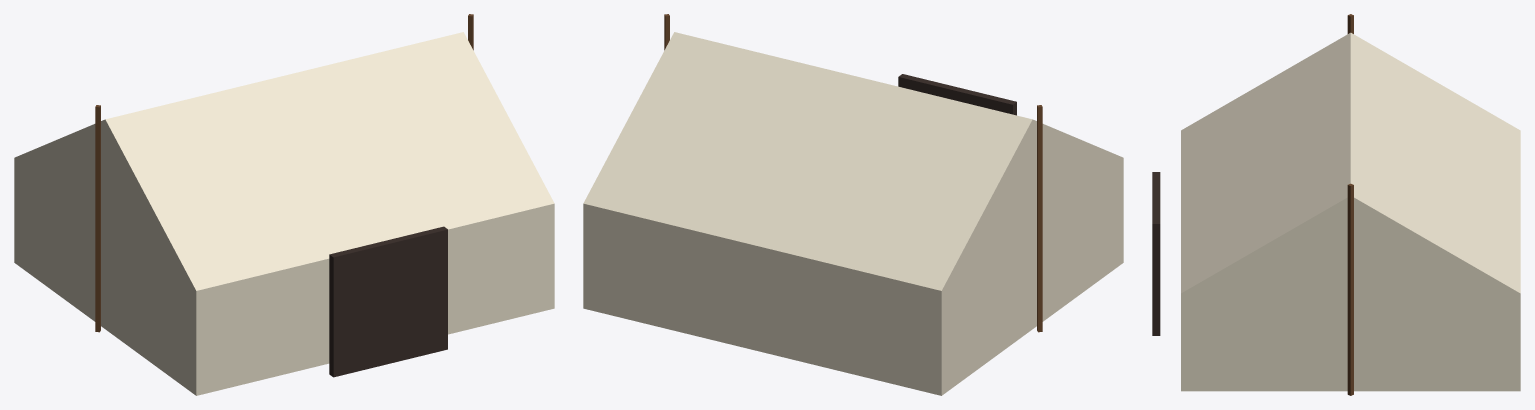
File: talt_vit.glb
The picture shows the model from 3 angles, left to right: view 1: azimuth 30°, elevation 25°; view 2: azimuth 150°, elevation 25°; view 3: azimuth 270°, elevation 25°; orthographic projection. The views are drawn at different scales.
Visible parts, largest first — view 1: talt_vit; view 2: talt_vit; view 3: talt_vit.
Part boxes in pixels (x1,y1,x2,y2): talt_vit: (14, 14, 554, 395); talt_vit: (583, 14, 1123, 395); talt_vit: (1152, 14, 1520, 395).
Bounding box in the file's own units: 5.28 × 3 × 4.77.
